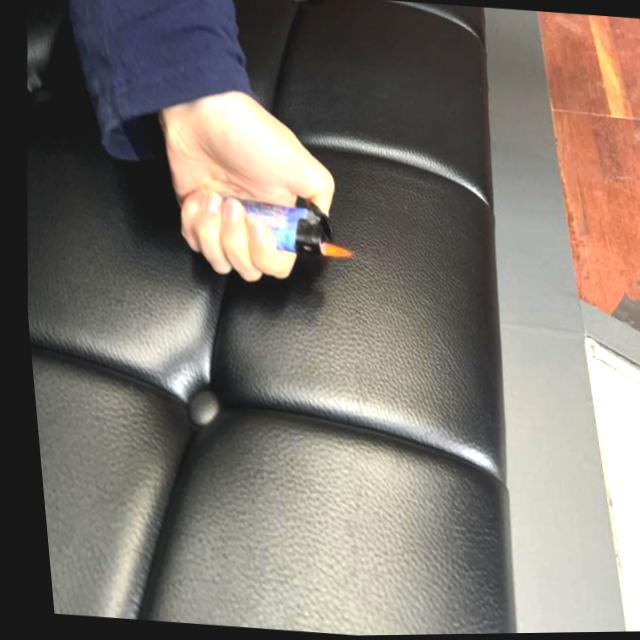helmet: (311, 239, 348, 260)
